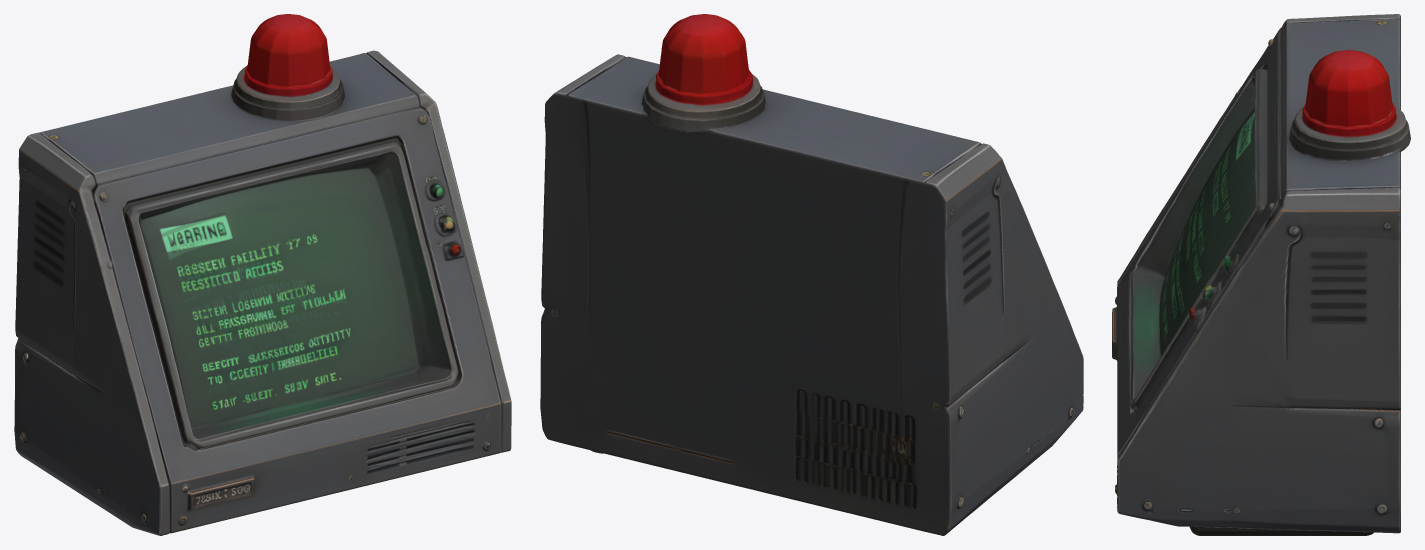
File: sencor.glb
The picture shows the model from 3 angles, left to right: view 1: azimuth 30°, elevation 25°; view 2: azimuth 150°, elevation 25°; view 3: azimuth 270°, elevation 25°; orthographic projection. The views are drawn at different scales.
Parts seen in each view (by area): view 1: tripo_node_c6dded90-31d5-4aee-b904-285d07633064; view 2: tripo_node_c6dded90-31d5-4aee-b904-285d07633064; view 3: tripo_node_c6dded90-31d5-4aee-b904-285d07633064.
Boxes of the visible parts, x1,y1,x2,y2 form: tripo_node_c6dded90-31d5-4aee-b904-285d07633064: [14, 14, 511, 535]; tripo_node_c6dded90-31d5-4aee-b904-285d07633064: [540, 14, 1083, 535]; tripo_node_c6dded90-31d5-4aee-b904-285d07633064: [1112, 14, 1410, 535].
Bounding box in the file's own units: 0.966 × 1 × 0.6264.
1 material, 1 textured.
